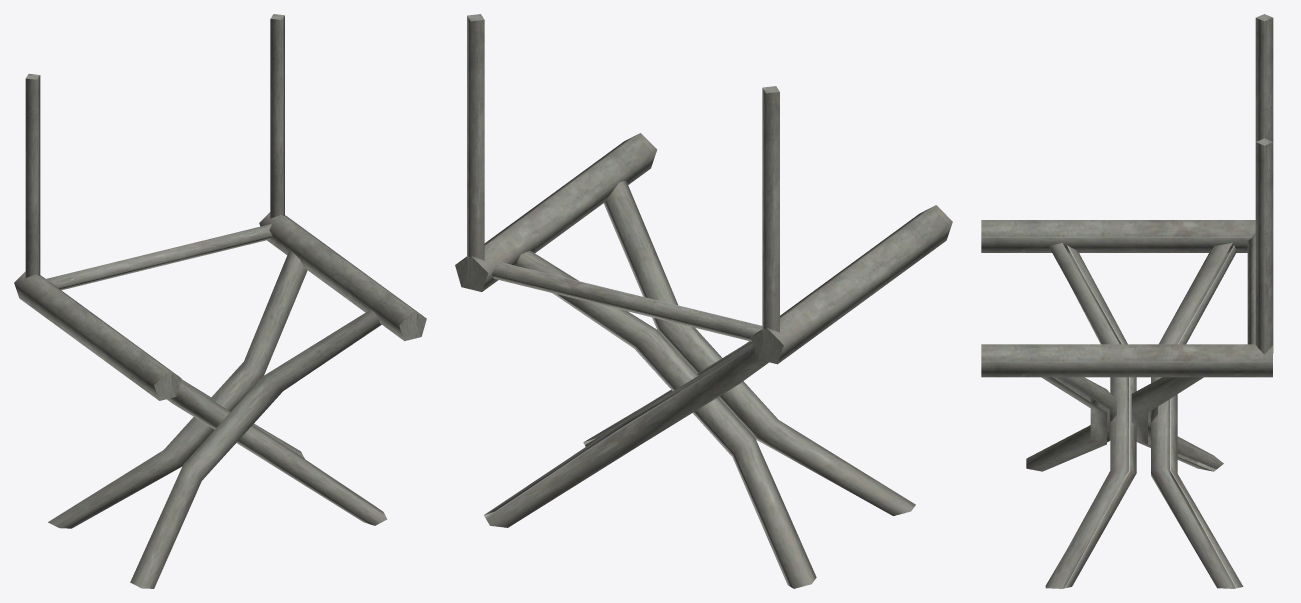
File: eqp_camping_chair_s1_l0.fbx
3 renders of one model, left to right at view 1: azimuth 30°, elevation 25°; view 2: azimuth 150°, elevation 25°; view 3: azimuth 270°, elevation 25°, orthographic. The views are drawn at different scales.
Visible parts, largest first — view 1: mesh_node; view 2: mesh_node; view 3: mesh_node.
Part boxes in pixels (bbox=[...]): mesh_node: bbox=[14, 14, 426, 588]; mesh_node: bbox=[455, 14, 952, 588]; mesh_node: bbox=[981, 14, 1273, 588].
Bounding box in the file's own units: 0.5621 × 0.8489 × 0.5232.
1 material, 1 textured.
